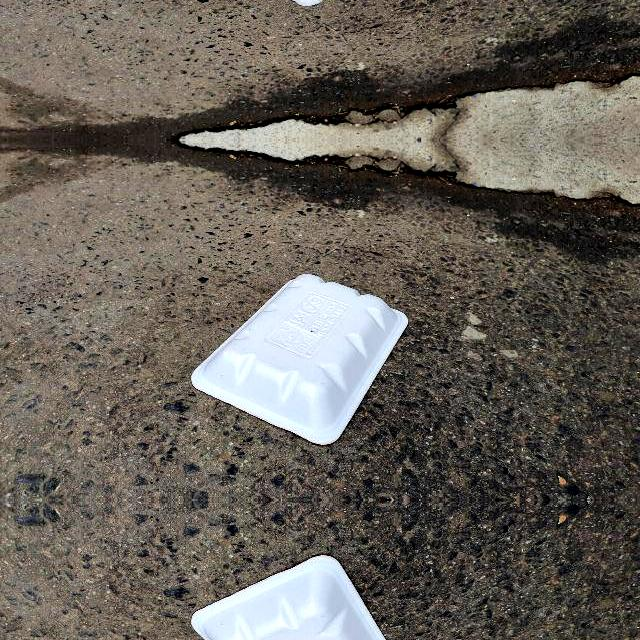Styrofoam: (190, 272, 408, 446), (191, 274, 408, 444), (189, 554, 408, 640), (191, 556, 386, 640)
